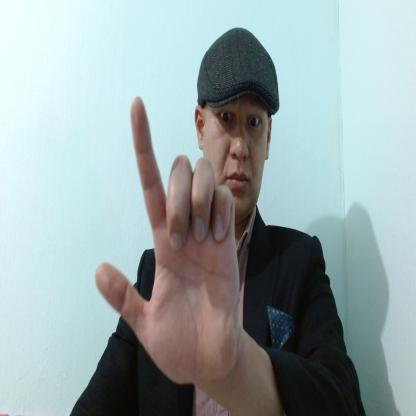L: (96, 94, 240, 384)
